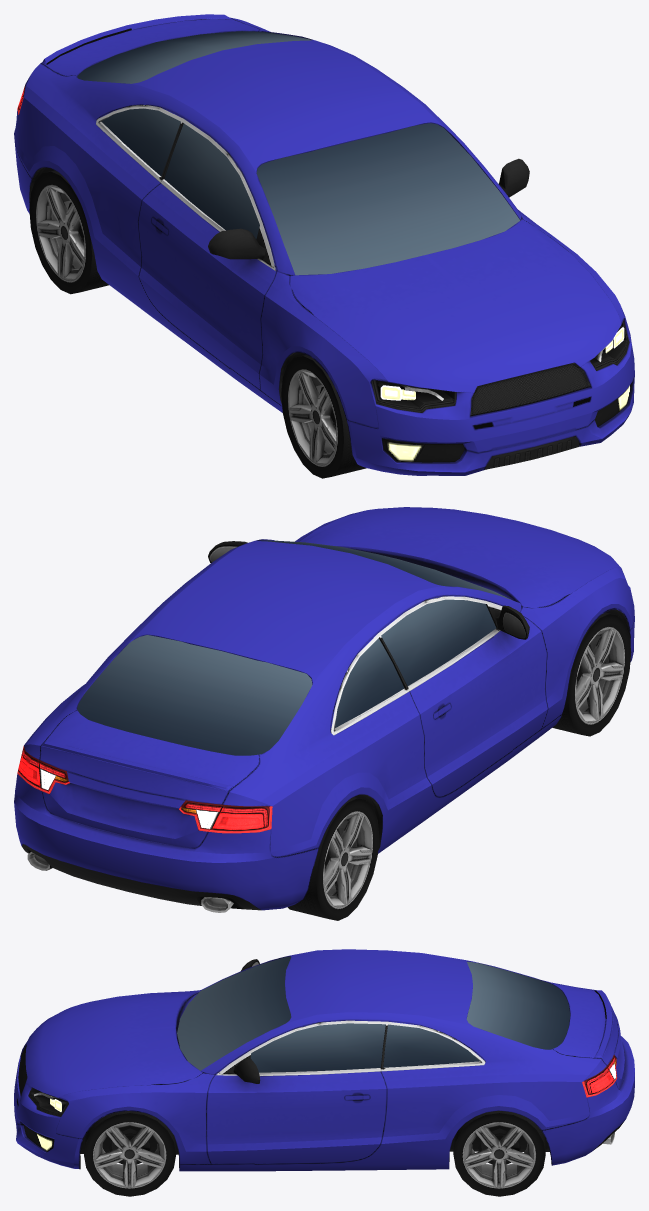
The model's file is VHC0310002.FBX.
The picture shows the model from 3 angles, top to bottom: view 1: azimuth 30°, elevation 25°; view 2: azimuth 150°, elevation 25°; view 3: azimuth 270°, elevation 25°; orthographic projection. The views are drawn at different scales.
Parts seen in each view (by area): view 1: smVHC0310002; view 2: smVHC0310002; view 3: smVHC0310002.
Part boxes in pixels (box(x1,y1,x2,y2)): smVHC0310002: box(14, 14, 634, 478); smVHC0310002: box(14, 507, 634, 920); smVHC0310002: box(14, 949, 634, 1196).
Size of the model in its own units: 2.22 by 1.54 by 5.11.
1 material, 1 textured.
